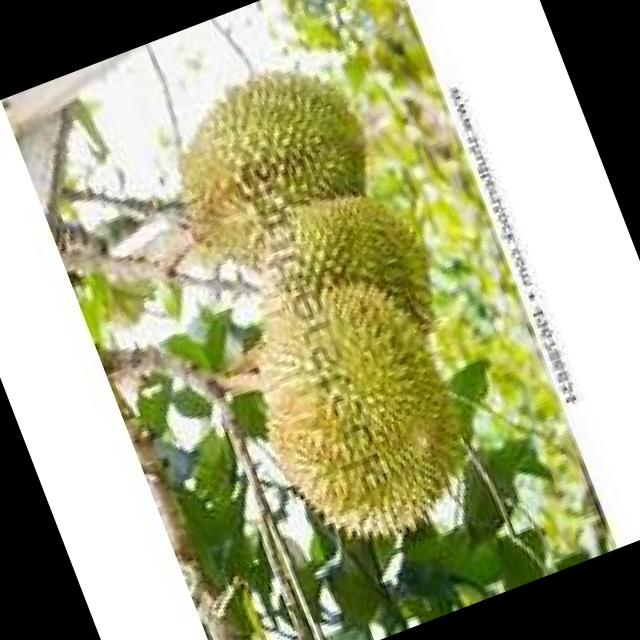fruit: (198, 233, 522, 587), (117, 29, 405, 298)
